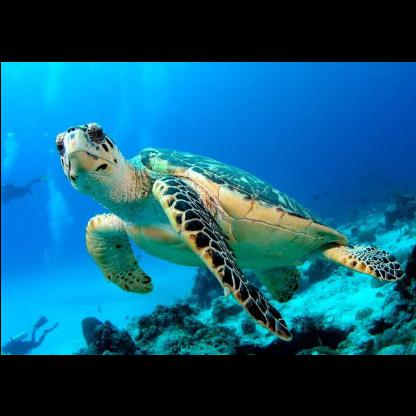turtle: (52, 121, 404, 333)
